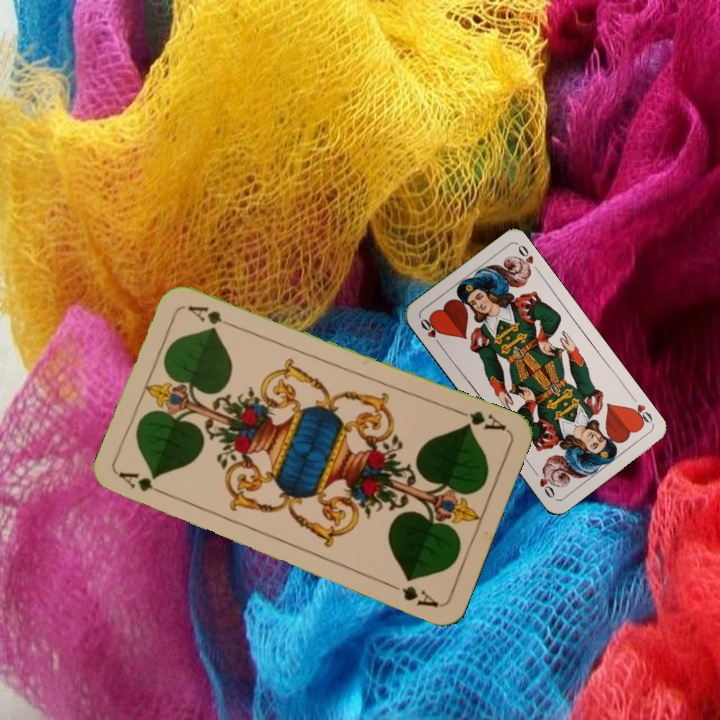GA: (115, 468, 172, 499), (452, 405, 509, 433)
HO: (626, 392, 656, 428), (416, 314, 445, 349)
